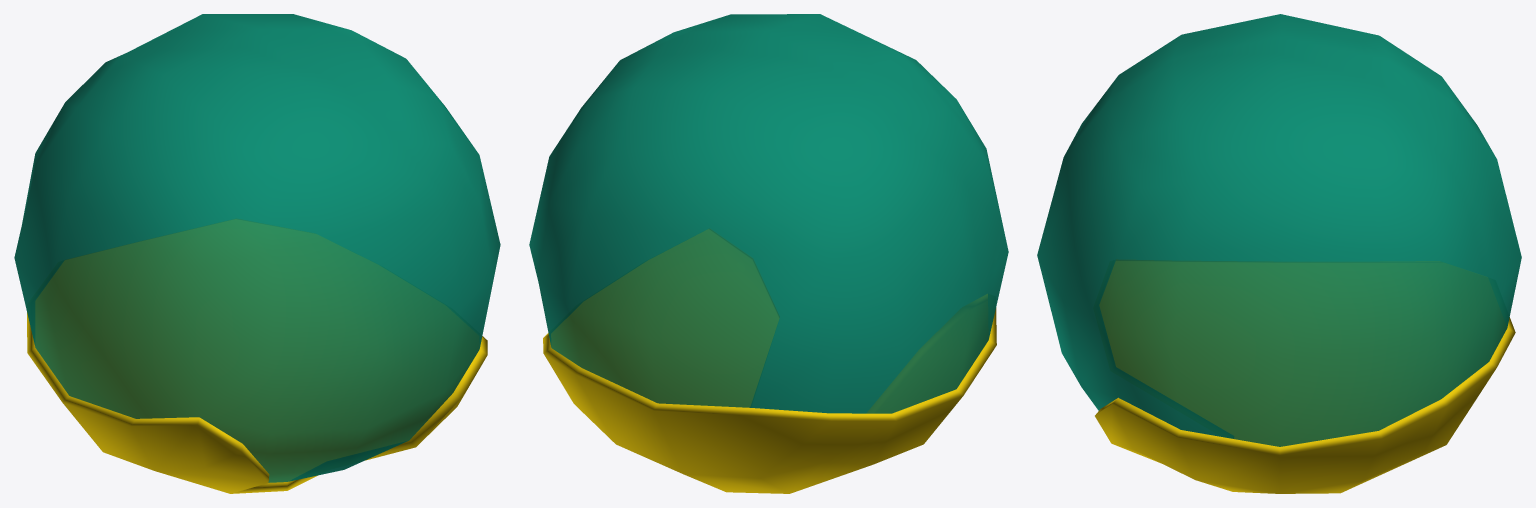
Rendered from misterio_mask (1).fbx.
3 renders of one model, left to right at view 1: azimuth 30°, elevation 25°; view 2: azimuth 150°, elevation 25°; view 3: azimuth 270°, elevation 25°, orthographic.
Visible parts, largest first — view 1: mask_misterio; view 2: mask_misterio; view 3: mask_misterio.
Part boxes in pixels (<box>): mask_misterio: <box>14,14,500,493</box>; mask_misterio: <box>529,14,1008,493</box>; mask_misterio: <box>1037,14,1521,493</box>.
Size of the model in its own units: 49.06 by 48.6 by 49.06.
